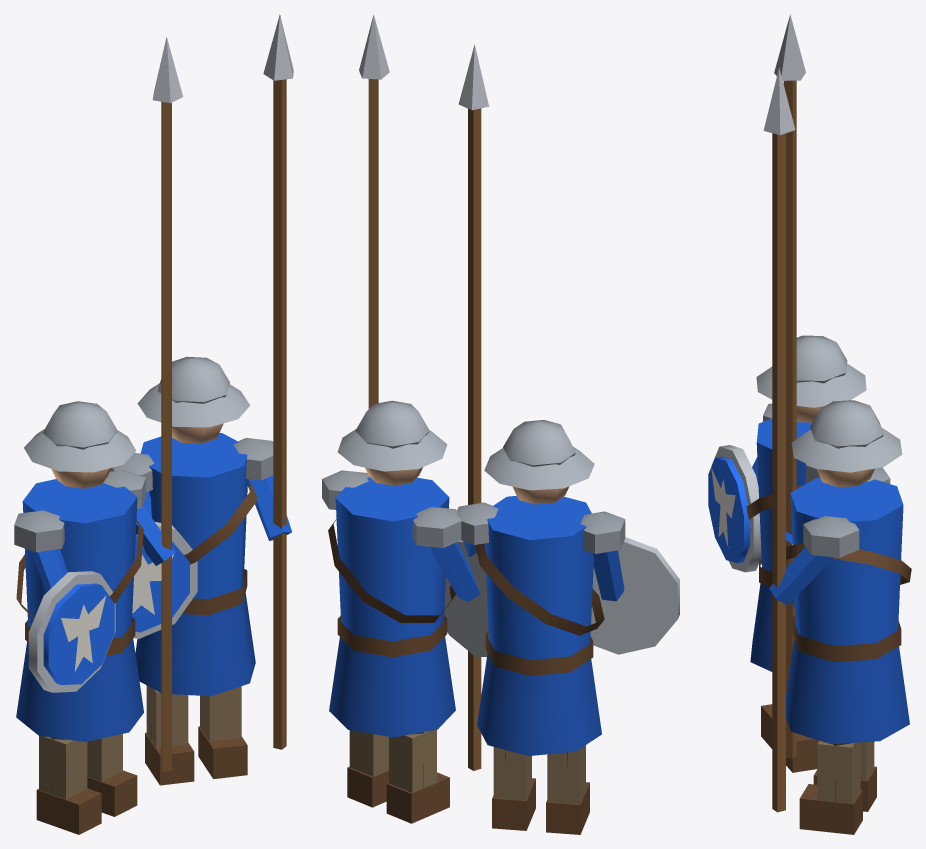
The model's file is sentry_dl2_blue.glb.
The picture shows the model from 3 angles, left to right: view 1: azimuth 30°, elevation 25°; view 2: azimuth 150°, elevation 25°; view 3: azimuth 270°, elevation 25°; orthographic projection. The views are drawn at different scales.
Visible parts, largest first — view 1: sentry_dl2_blue; view 2: sentry_dl2_blue; view 3: sentry_dl2_blue.
Boxes of the visible parts, <box> form: sentry_dl2_blue: <box>14,14,293,834</box>; sentry_dl2_blue: <box>322,14,679,834</box>; sentry_dl2_blue: <box>708,14,911,834</box>.
Bounding box in the file's own units: 0.2989 × 0.722 × 0.1723.
1 material, 1 textured.
